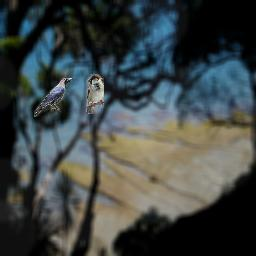Crow: (34, 78, 73, 117)
Sparrow: (86, 74, 104, 114)
